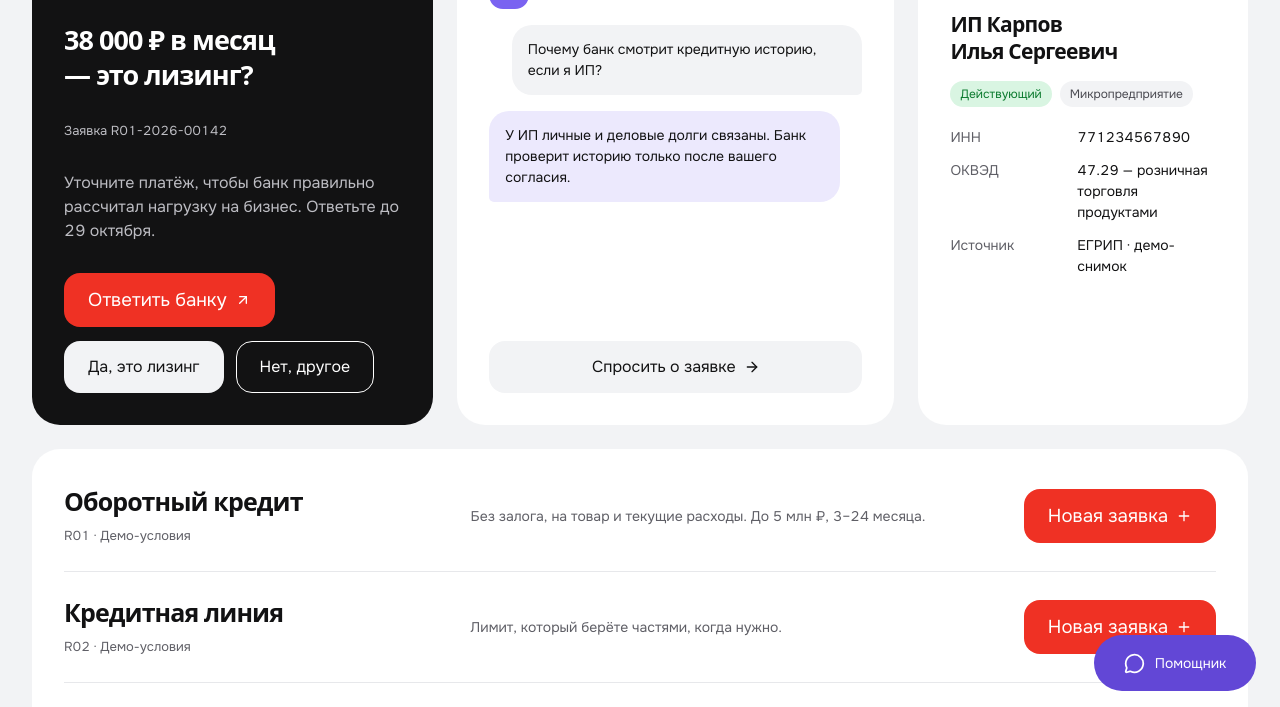
Test case: Key screens › keeps assistant failure separate from the main form
This screenshot has width=1280, height=707.
(page scrolled)
Click the button "Спросить о заявке" at (676, 367), box [489,341,862,393]
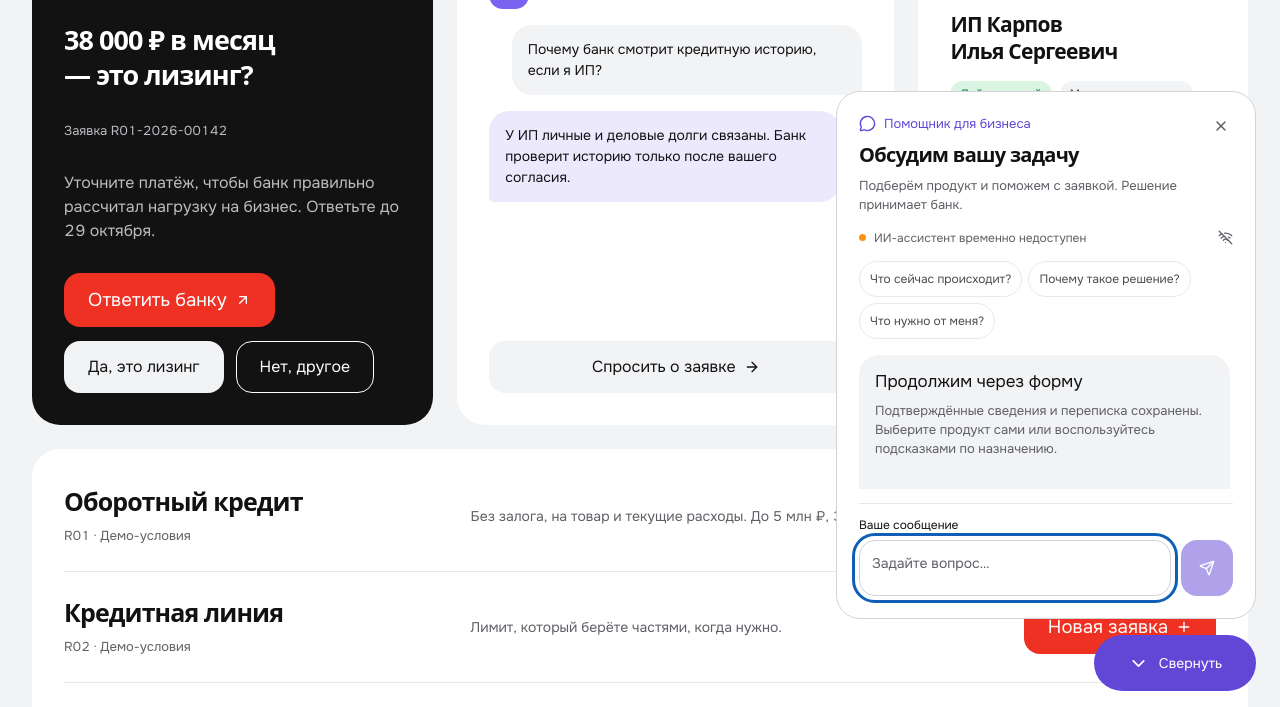
Now the heading "Продолжим через форму" is shown, box [875,370,1082,392]
